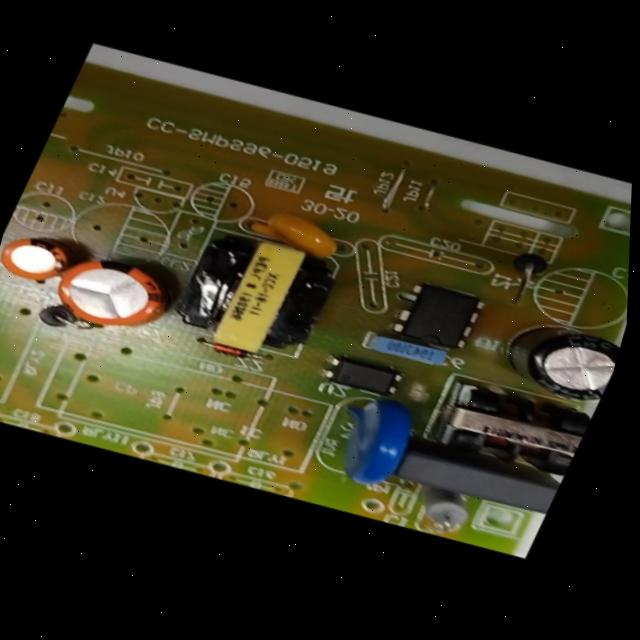Cap1: (40, 241, 181, 348)
Cap2: (0, 228, 77, 292)
Cap3: (483, 305, 623, 414)
MOSFET: (385, 274, 489, 358)
Mov: (314, 387, 425, 498)
Resistor: (401, 479, 476, 540)
Transformer: (159, 213, 340, 375), (424, 370, 594, 490)
